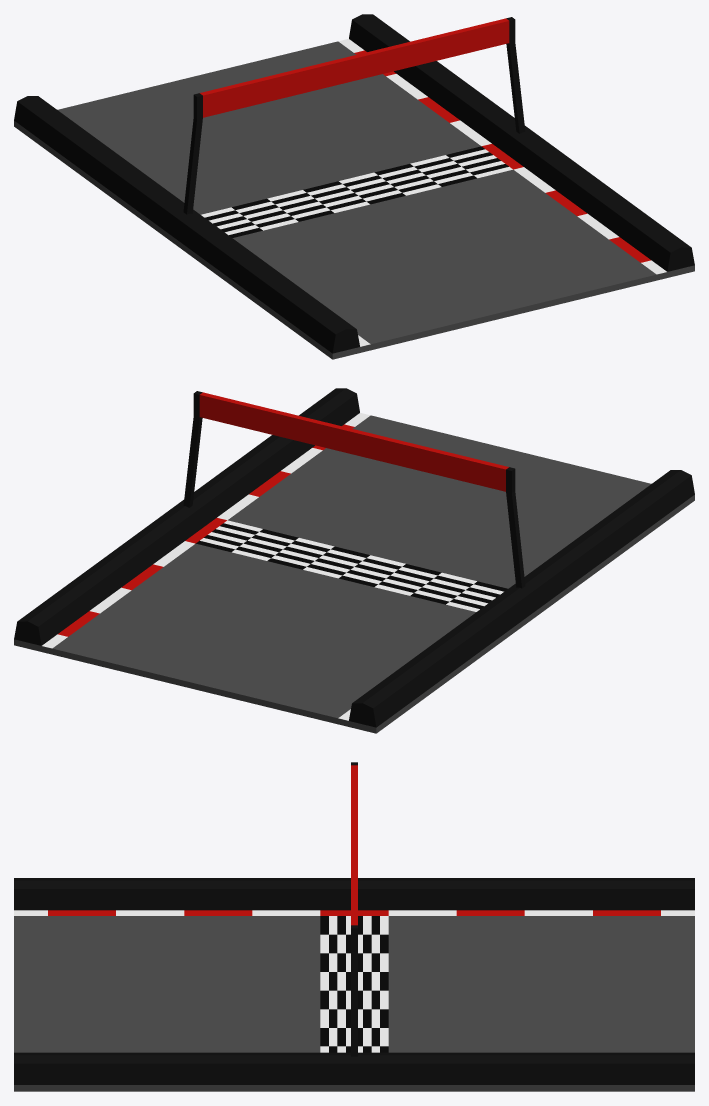
Rendered from finish.obj.
3 views of the same model, one above another, from view 1: azimuth 30°, elevation 25°; view 2: azimuth 150°, elevation 25°; view 3: azimuth 270°, elevation 25° (orthographic). The views are drawn at different scales.
Parts seen in each view (by area): view 1: Finish_Plane.001; view 2: Finish_Plane.001; view 3: Finish_Plane.001.
Part boxes in pixels (x1,y1,x2,y2): Finish_Plane.001: (14,14,694,359); Finish_Plane.001: (14,388,694,733); Finish_Plane.001: (14,762,694,1091).
Bounding box in the file's own units: 13.13 × 4.92 × 20.
